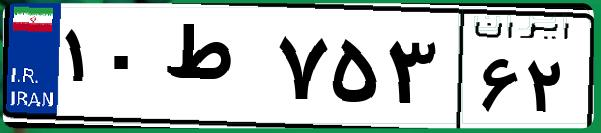0: (110, 28, 158, 98)
1: (57, 26, 110, 100)
2: (525, 38, 570, 115)
3: (385, 28, 445, 110)
5: (330, 28, 385, 110)
6: (475, 38, 525, 113)
7: (270, 28, 330, 110)
ط: (158, 20, 270, 120)
